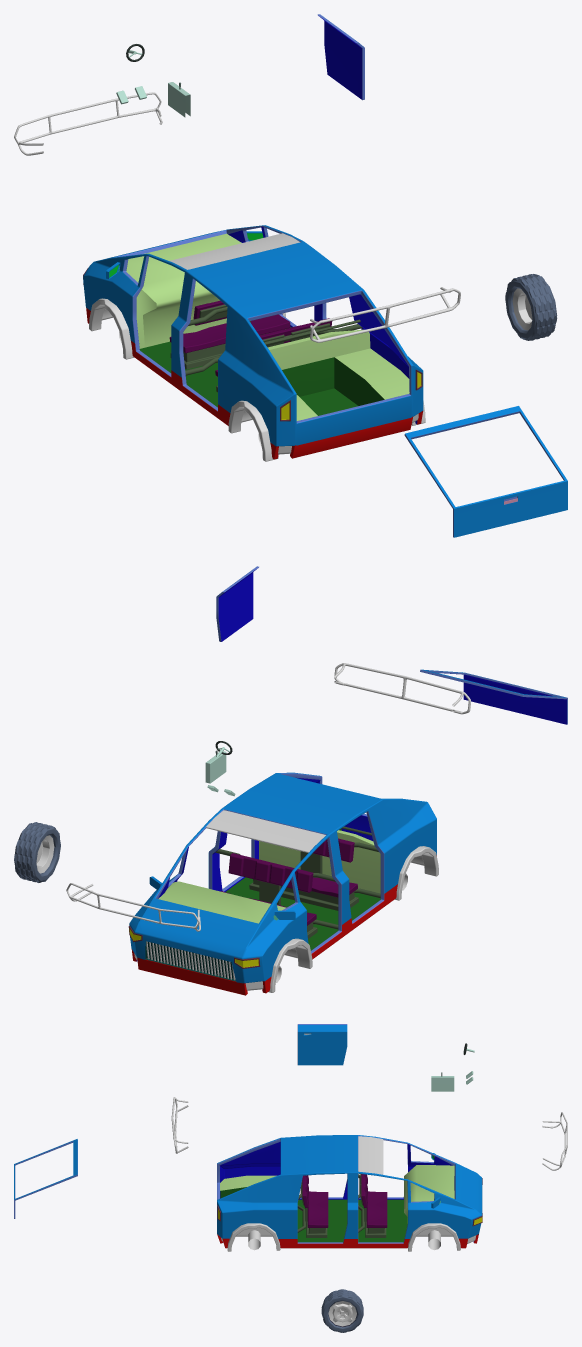
Rendered from civilian_car_high.fbx.
3 views of the same model, one above another, from view 1: azimuth 30°, elevation 25°; view 2: azimuth 150°, elevation 25°; view 3: azimuth 270°, elevation 25° (orthographic). The views are drawn at different scales.
Parts seen in each view (by area): view 1: Hull.002, Floor.002, WindowBackFrame.002, Seats.002, DoorBack.002, Wheel.003, WheelCover.002, WindshieldTop.002, BumperBack.002, BumperFront.002, Controls.002; view 2: Hull.002, Floor.002, Seats.002, WindowBackFrame.002, WindshieldTop.002, DoorBack.002, Wheel.003, WheelCover.002, Cube, BumperBack.002, BumperFront.002, Controls.002; view 3: Hull.002, Floor.002, Seats.002, DoorBack.002, Wheel.003, WindshieldTop.002, Bottom.002, WheelCover.002, WindowBackFrame.002, Wheel.002, Controls.002.
Part boxes in pixels (x1=…): Hull.002: x1=83, y1=225, x2=423, y2=459; Floor.002: x1=126, y1=233, x2=409, y2=420; WindowBackFrame.002: x1=404, y1=406, x2=567, y2=537; Seats.002: x1=169, y1=300, x2=362, y2=392; DoorBack.002: x1=317, y1=14, x2=364, y2=100; Wheel.003: x1=505, y1=274, x2=557, y2=340; WheelCover.002: x1=89, y1=298, x2=425, y2=461; WindshieldTop.002: x1=169, y1=233, x2=300, y2=269; BumperBack.002: x1=310, y1=287, x2=460, y2=342; BumperFront.002: x1=14, y1=92, x2=162, y2=155; Controls.002: x1=116, y1=44, x2=190, y2=117; Hull.002: x1=129, y1=772, x2=436, y2=995; Floor.002: x1=158, y1=828, x2=380, y2=950; Seats.002: x1=215, y1=826, x2=380, y2=938; WindowBackFrame.002: x1=420, y1=669, x2=567, y2=724; WindshieldTop.002: x1=206, y1=810, x2=325, y2=852; DoorBack.002: x1=216, y1=566, x2=258, y2=641; Wheel.003: x1=14, y1=822, x2=60, y2=882; WheelCover.002: x1=268, y1=846, x2=438, y2=992; Cube: x1=146, y1=941, x2=235, y2=980; BumperBack.002: x1=334, y1=663, x2=470, y2=714; BumperFront.002: x1=66, y1=883, x2=200, y2=931; Controls.002: x1=205, y1=741, x2=235, y2=796; Hull.002: x1=217, y1=1135, x2=482, y2=1248; Floor.002: x1=220, y1=1165, x2=454, y2=1242; Seats.002: x1=297, y1=1174, x2=387, y2=1237; DoorBack.002: x1=297, y1=1024, x2=347, y2=1065; Wheel.003: x1=321, y1=1289, x2=363, y2=1332; WindshieldTop.002: x1=358, y1=1136, x2=383, y2=1174; Bottom.002: x1=221, y1=1227, x2=476, y2=1250; WheelCover.002: x1=227, y1=1223, x2=460, y2=1251; WindowBackFrame.002: x1=14, y1=1139, x2=77, y2=1218; Wheel.002: x1=328, y1=1301, x2=356, y2=1326; Controls.002: x1=431, y1=1043, x2=474, y2=1091.
Size of the model in its own units: 417 by 404 by 846.
